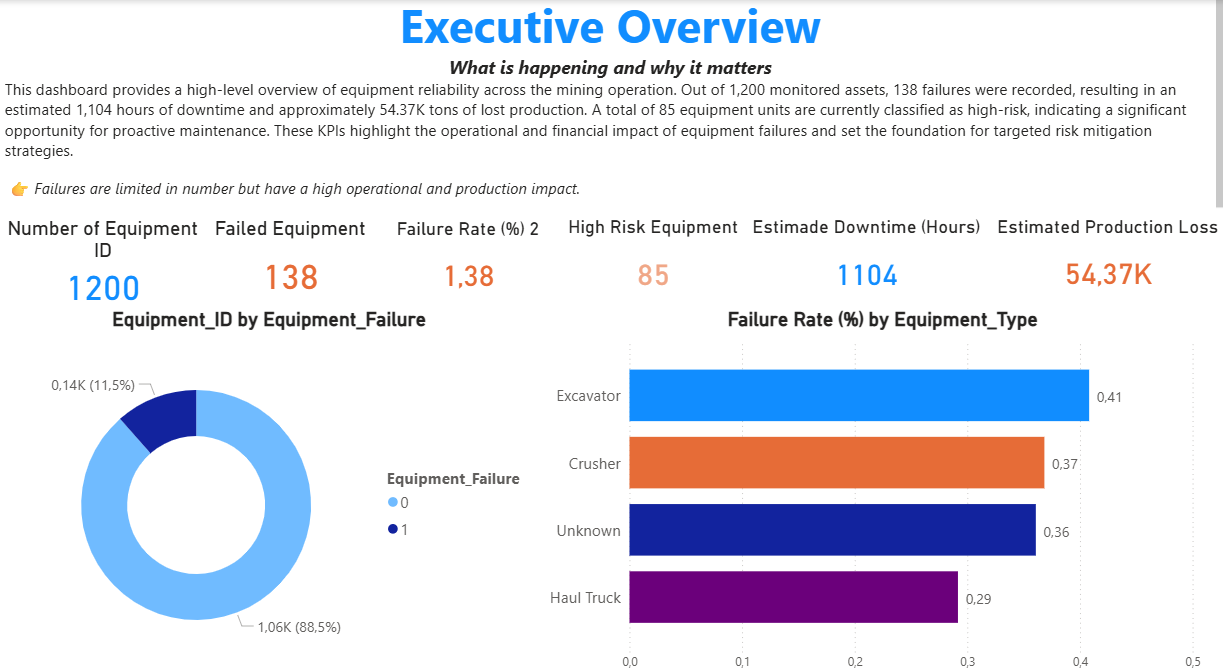

What the dashboard file says about the page in this screenshot:
{"tool":"powerbi","page":{"name":"Page 1","canvas":[1280,720],"ordinal":0},"visuals":[{"type":"card","title":"Failed Equipment","fields":{"Values":["Sheet1 (2).Failed Equipment"]},"box":[214.1,237.5,176.6,95.3],"z":1000},{"type":"card","title":"Number of Equipment ID","fields":{"Values":["CountNonNull(Sheet1 (2).Equipment_ID)"]},"box":[0,237.5,214.1,95.3],"z":2000},{"type":"donutChart","title":"Equipment_ID by Equipment_Failure","fields":{"Category":["Sheet1 (2).Equipment_Failure"],"Y":["CountNonNull(Sheet1 (2).Equipment_ID)"]},"box":[0,332.8,560.9,387.5],"z":4000},{"type":"barChart","title":"Failure Rate (%) by Equipment_Type ","fields":{"Category":["Sheet1 (2).Equipment_Type"],"Y":["Sheet1 (2).Failure_Rate (%)"],"Series":["Sheet1 (2).Equipment_Type"]},"box":[559.4,332.8,720.3,387.5],"z":5000},{"type":"textbox","box":[0,0,1279.7,237.5],"z":6000},{"type":"card","title":"Failure Rate (%) 2","fields":{"Values":["Sheet1 (2).Failure_Rate (%)"]},"box":[390.6,239.1,193.8,93.8],"z":6001},{"type":"card","title":"High Risk Equipment","fields":{"Values":["Sheet1 (2).High Risk Equipment"]},"box":[584.4,237.5,192.2,95.3],"z":6002},{"type":"card","title":"Estimade Downtime (Hours)","fields":{"Values":["Sheet1 (2).Estimated Downtime (Hours)"]},"box":[776.6,237.5,251.6,95.3],"z":6003},{"type":"card","title":"Estimated Production Loss ","fields":{"Values":["Sheet1 (2).Estimated Production Loss (Tons)"]},"box":[1028.1,237.5,251.6,93.8],"z":6004}]}

Visuals, with their boxes in screenshot pixels (x1, y1, x2, y2), scaled from the page's 1280x720 canvas onto the 1223x672 screenshot:
"Failed Equipment" card: [left=205, top=222, right=373, bottom=311]
"Number of Equipment ID" card: [left=0, top=222, right=205, bottom=311]
"Equipment_ID by Equipment_Failure" donutChart: [left=0, top=311, right=536, bottom=671]
"Failure Rate (%) by Equipment_Type " barChart: [left=534, top=311, right=1222, bottom=671]
textbox: [left=0, top=0, right=1222, bottom=222]
"Failure Rate (%) 2" card: [left=373, top=223, right=558, bottom=311]
"High Risk Equipment" card: [left=558, top=222, right=742, bottom=311]
"Estimade Downtime (Hours)" card: [left=742, top=222, right=982, bottom=311]
"Estimated Production Loss " card: [left=982, top=222, right=1222, bottom=309]
